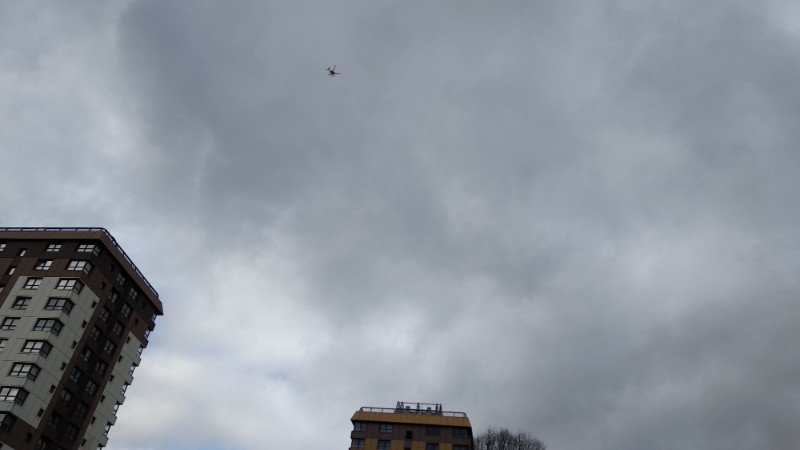drone: (324, 66, 340, 77)
